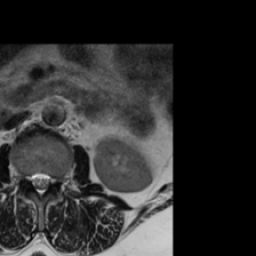CCS_normal: (36, 162, 43, 204)
LFS_stenosis: (51, 166, 59, 191)
LLS_normal: (43, 165, 51, 194)
RFS_stenosis: (20, 165, 28, 190)
RLS_normal: (28, 165, 36, 193)
